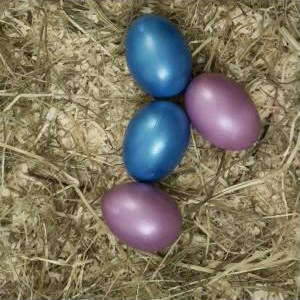egg: (186, 73, 261, 152), (102, 183, 184, 252), (123, 100, 190, 183), (126, 15, 192, 99)
